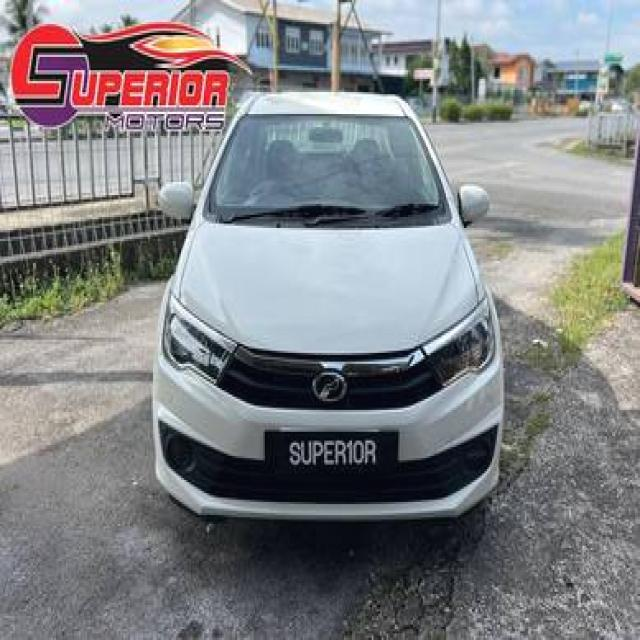PeroduaBezza: (150, 88, 505, 522)
